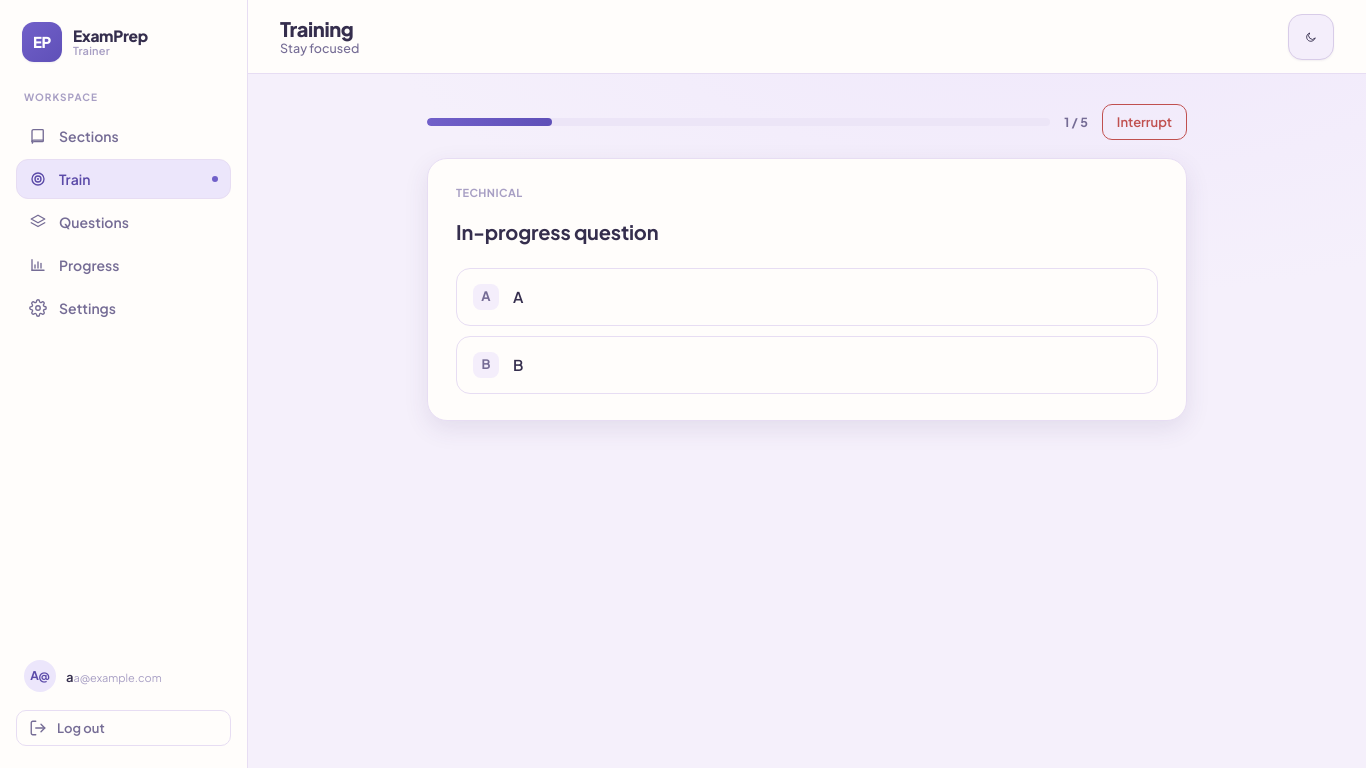
Test: App session resume › resumes the in-progress session after navigating to Sections and back to Train
The image size is (1366, 768).
Expected: the text "In-progress question" is shown, [456,218,658,244]
Note: Navigate away to Sections...
Click the button titled "Sections".
click(124, 136)  # box [16,116,231,156]
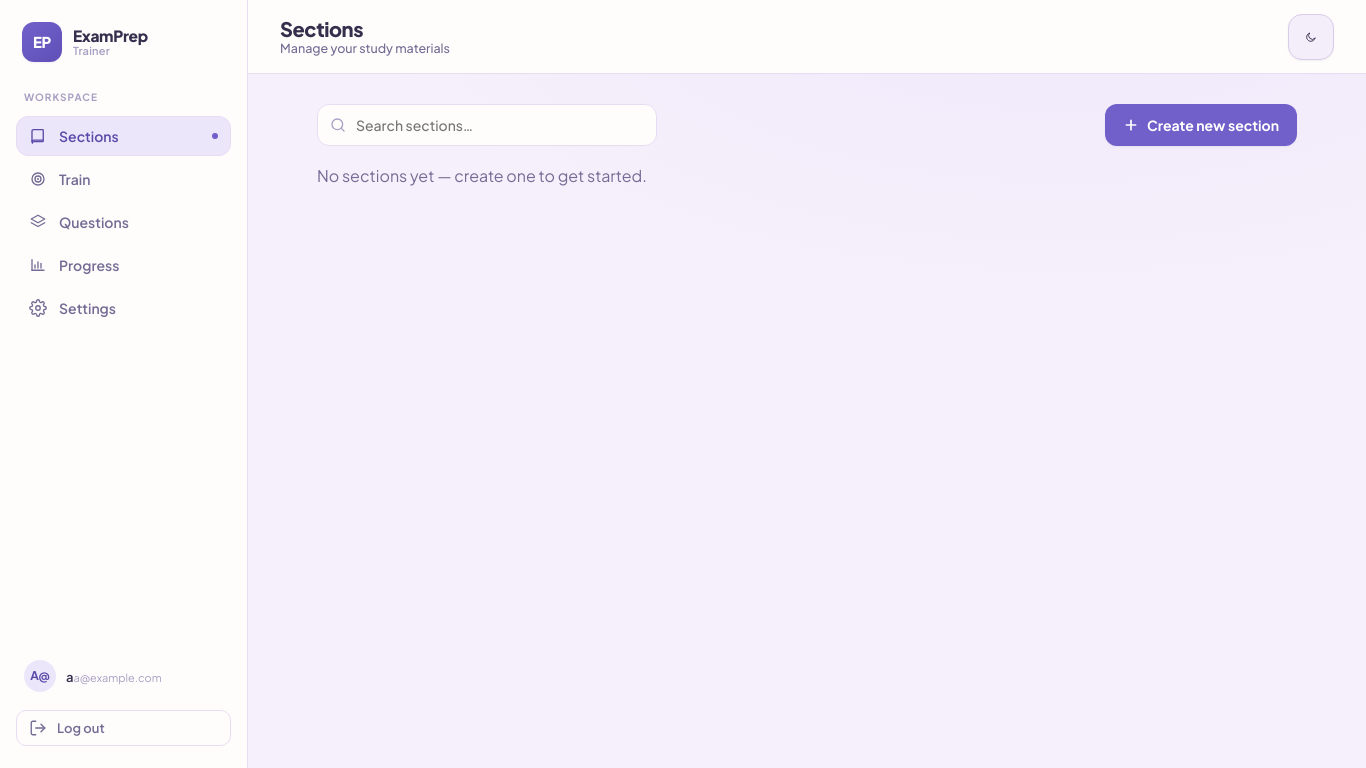
Now the text "In-progress question" is gone
Note: ...and back to Train: must resume session 42, not open the new-session form.
Click the button titled "Train".
click(124, 179)  # box [16,159,231,199]
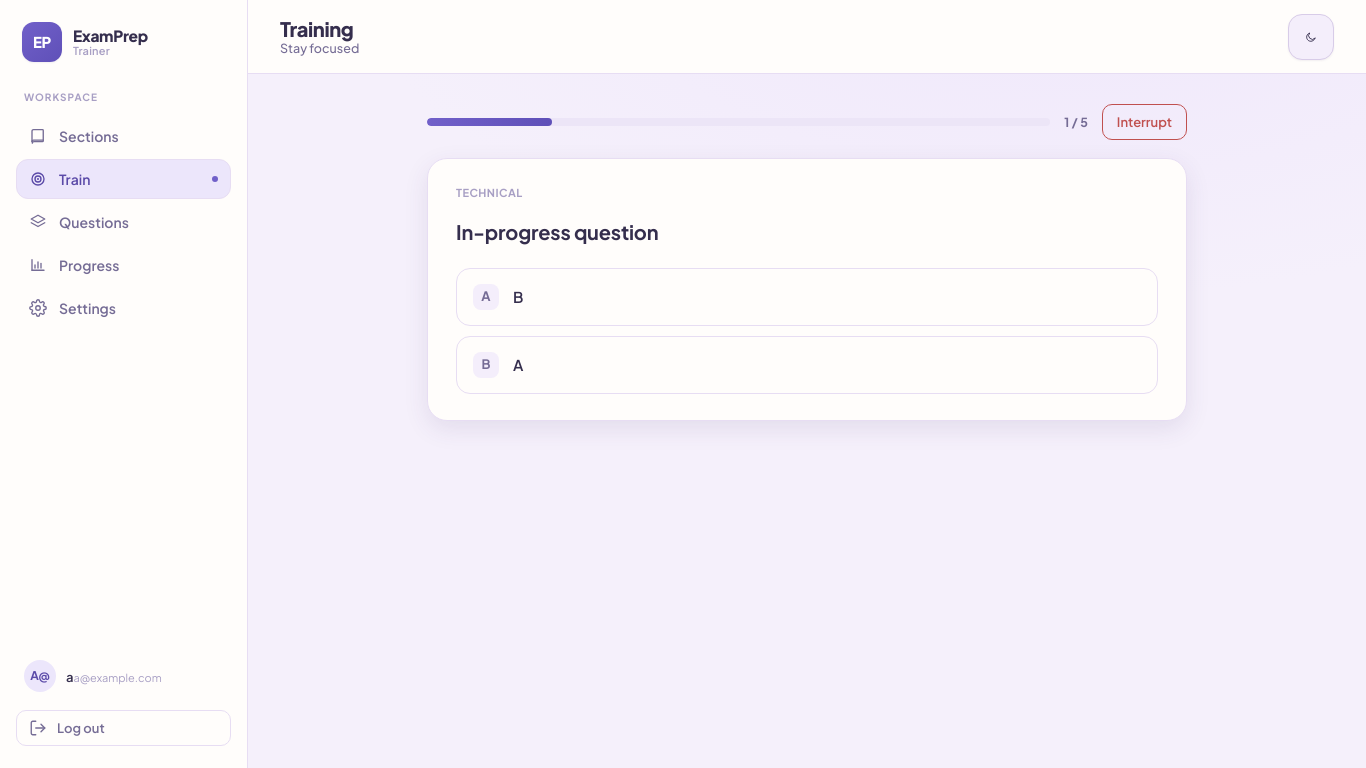
Now the text "In-progress question" is shown, box [456,218,658,244]
